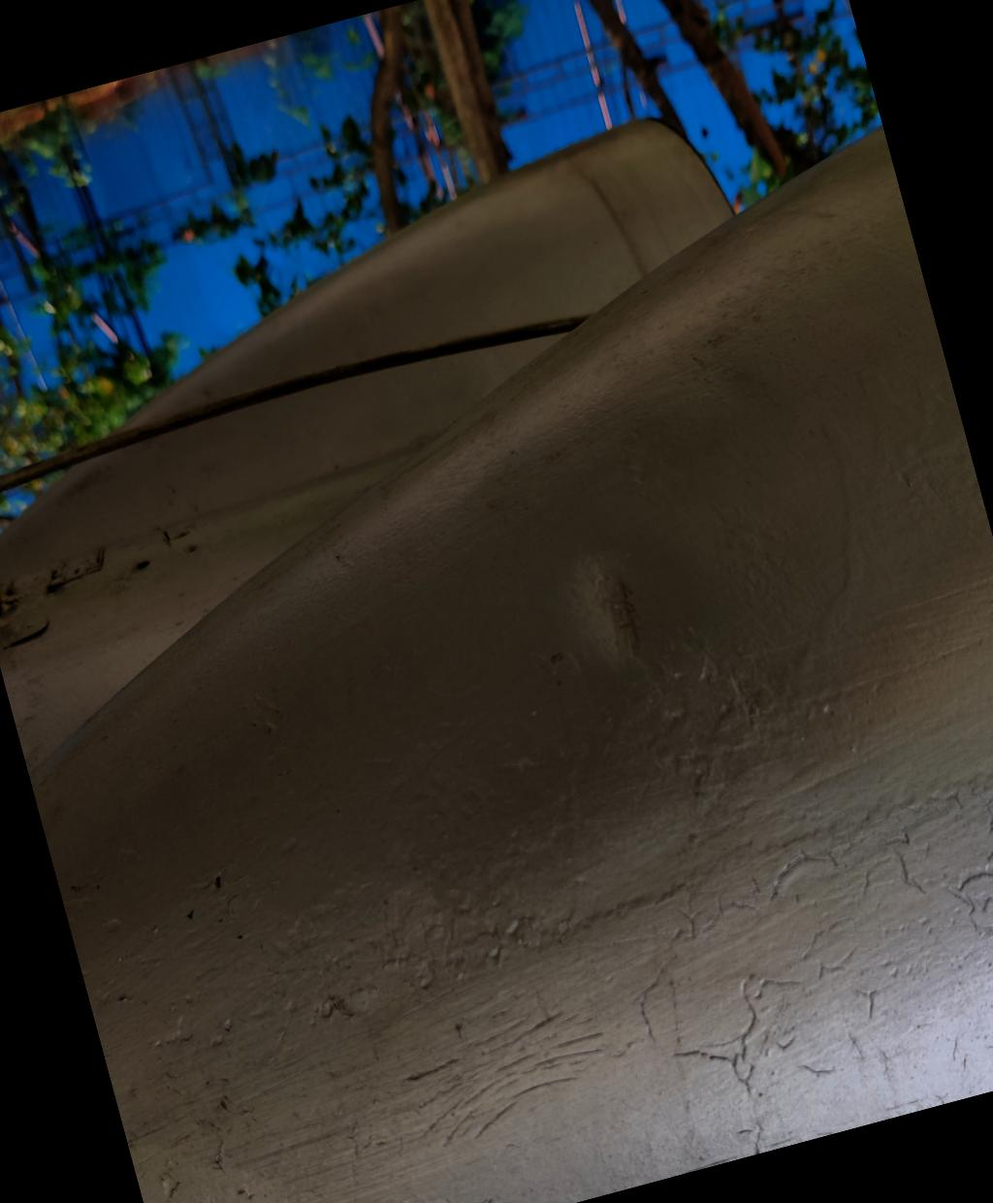dent: (503, 482, 746, 753)
